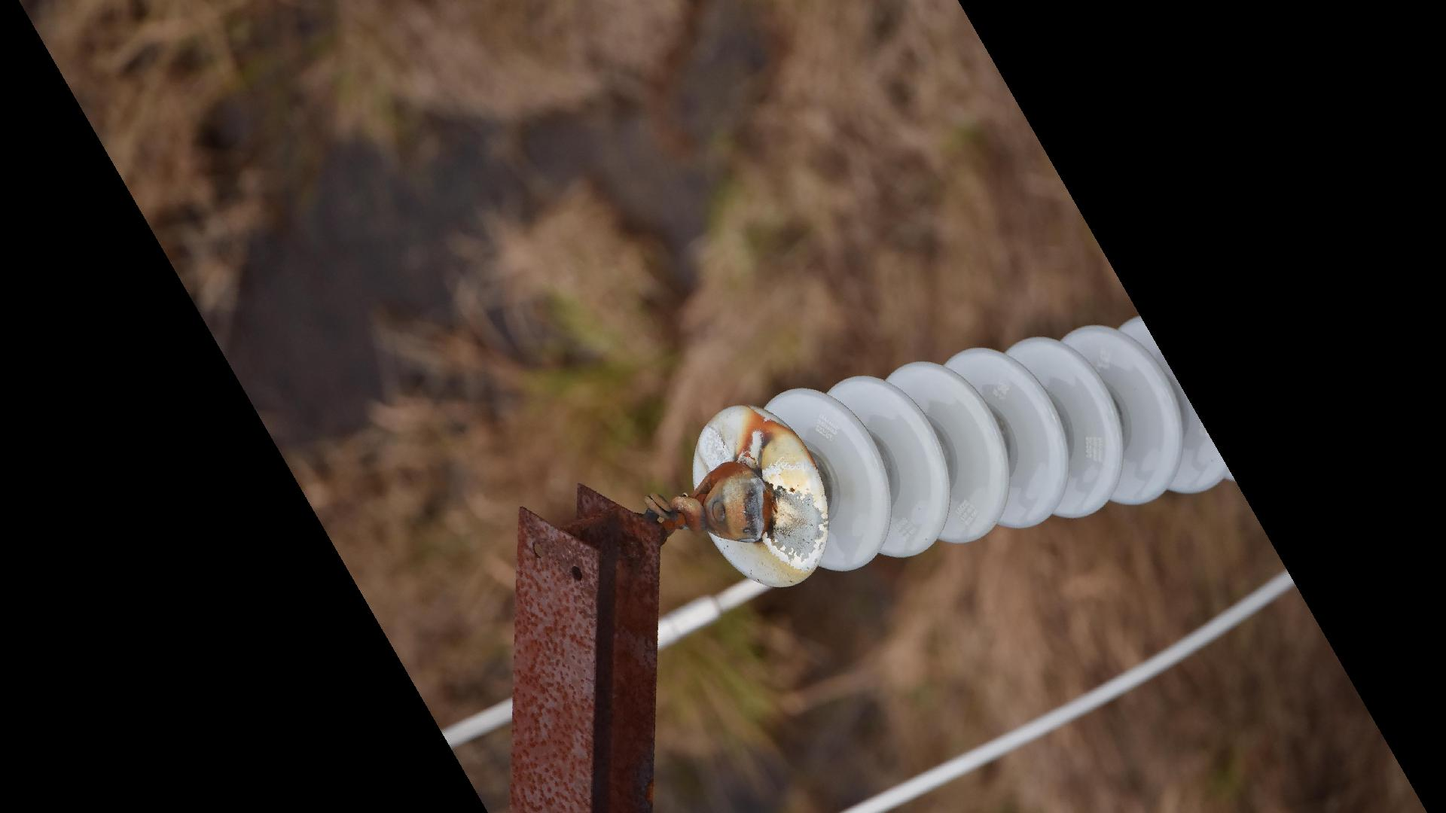insulator: (683, 309, 1240, 598)
insulator_flashover: (757, 465, 833, 574), (695, 422, 734, 477)
